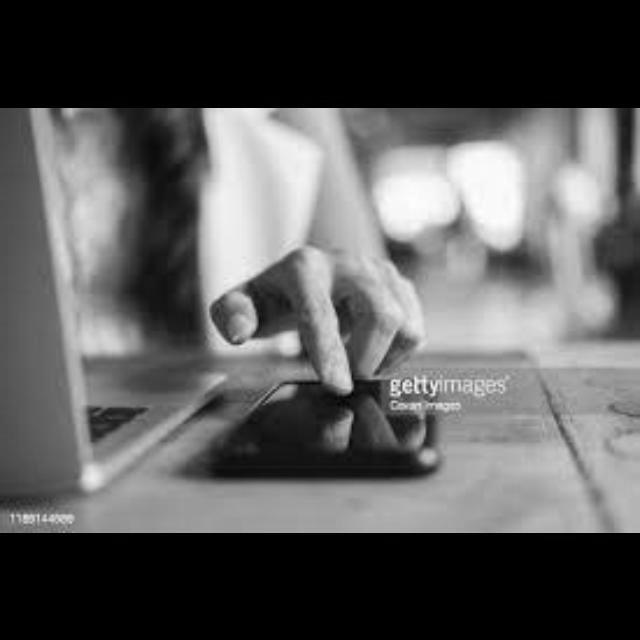fake: (218, 336, 492, 508)
